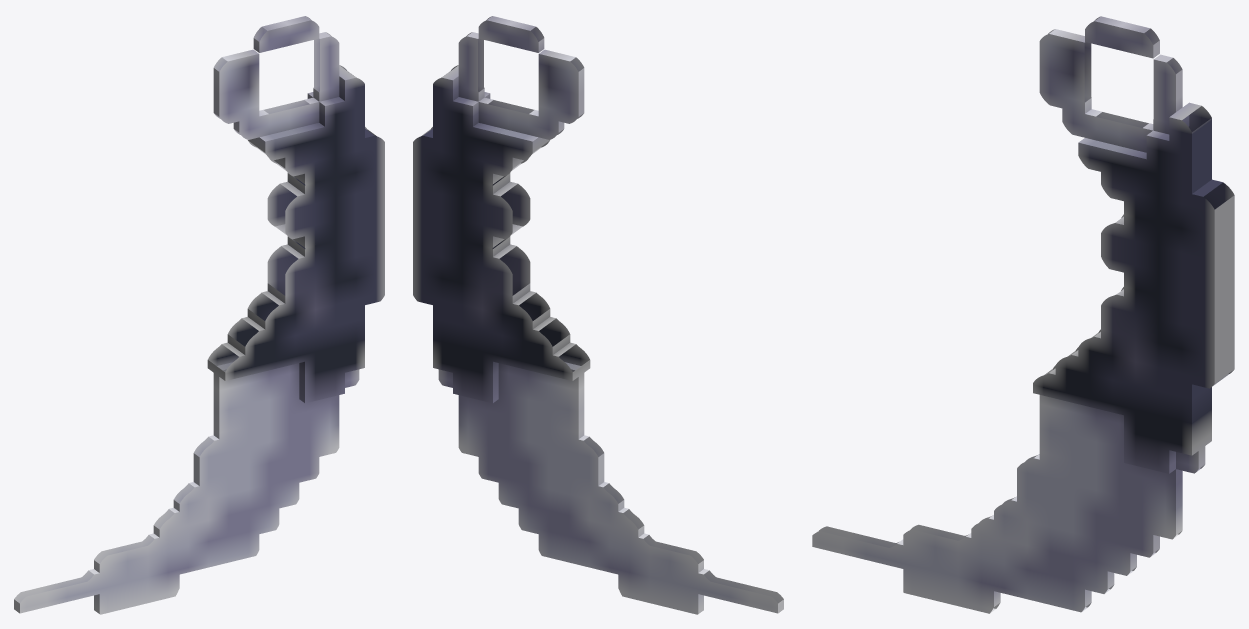
Rendered from dao_4.fbx.
The picture shows the model from 3 angles, left to right: view 1: azimuth 30°, elevation 25°; view 2: azimuth 150°, elevation 25°; view 3: azimuth 330°, elevation 25°; orthographic projection. The views are drawn at different scales.
Visible parts, largest first — view 1: defaut gun.003; view 2: defaut gun.003; view 3: defaut gun.003.
Part boxes in pixels (<box>): defaut gun.003: <box>14,16,384,614</box>; defaut gun.003: <box>413,16,783,614</box>; defaut gun.003: <box>812,16,1234,613</box>.
Size of the model in its own units: 180 by 260 by 15.19.
